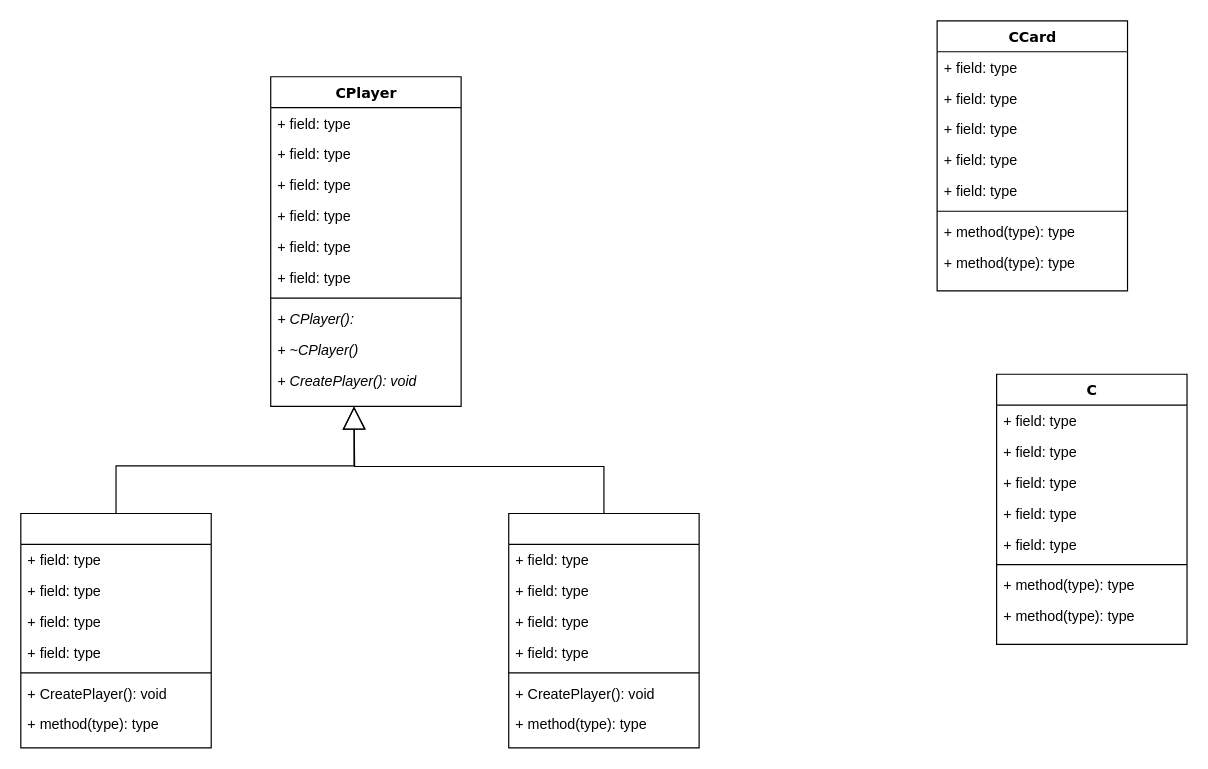
Some shapes in this 1208 by 769 pixel diagram are drawn without their labels. The box of each missing label's shape, as (x1, y1, x2, y2) in pixels:
CCPU: (508, 512, 699, 748)
CUser: (20, 512, 211, 748)
